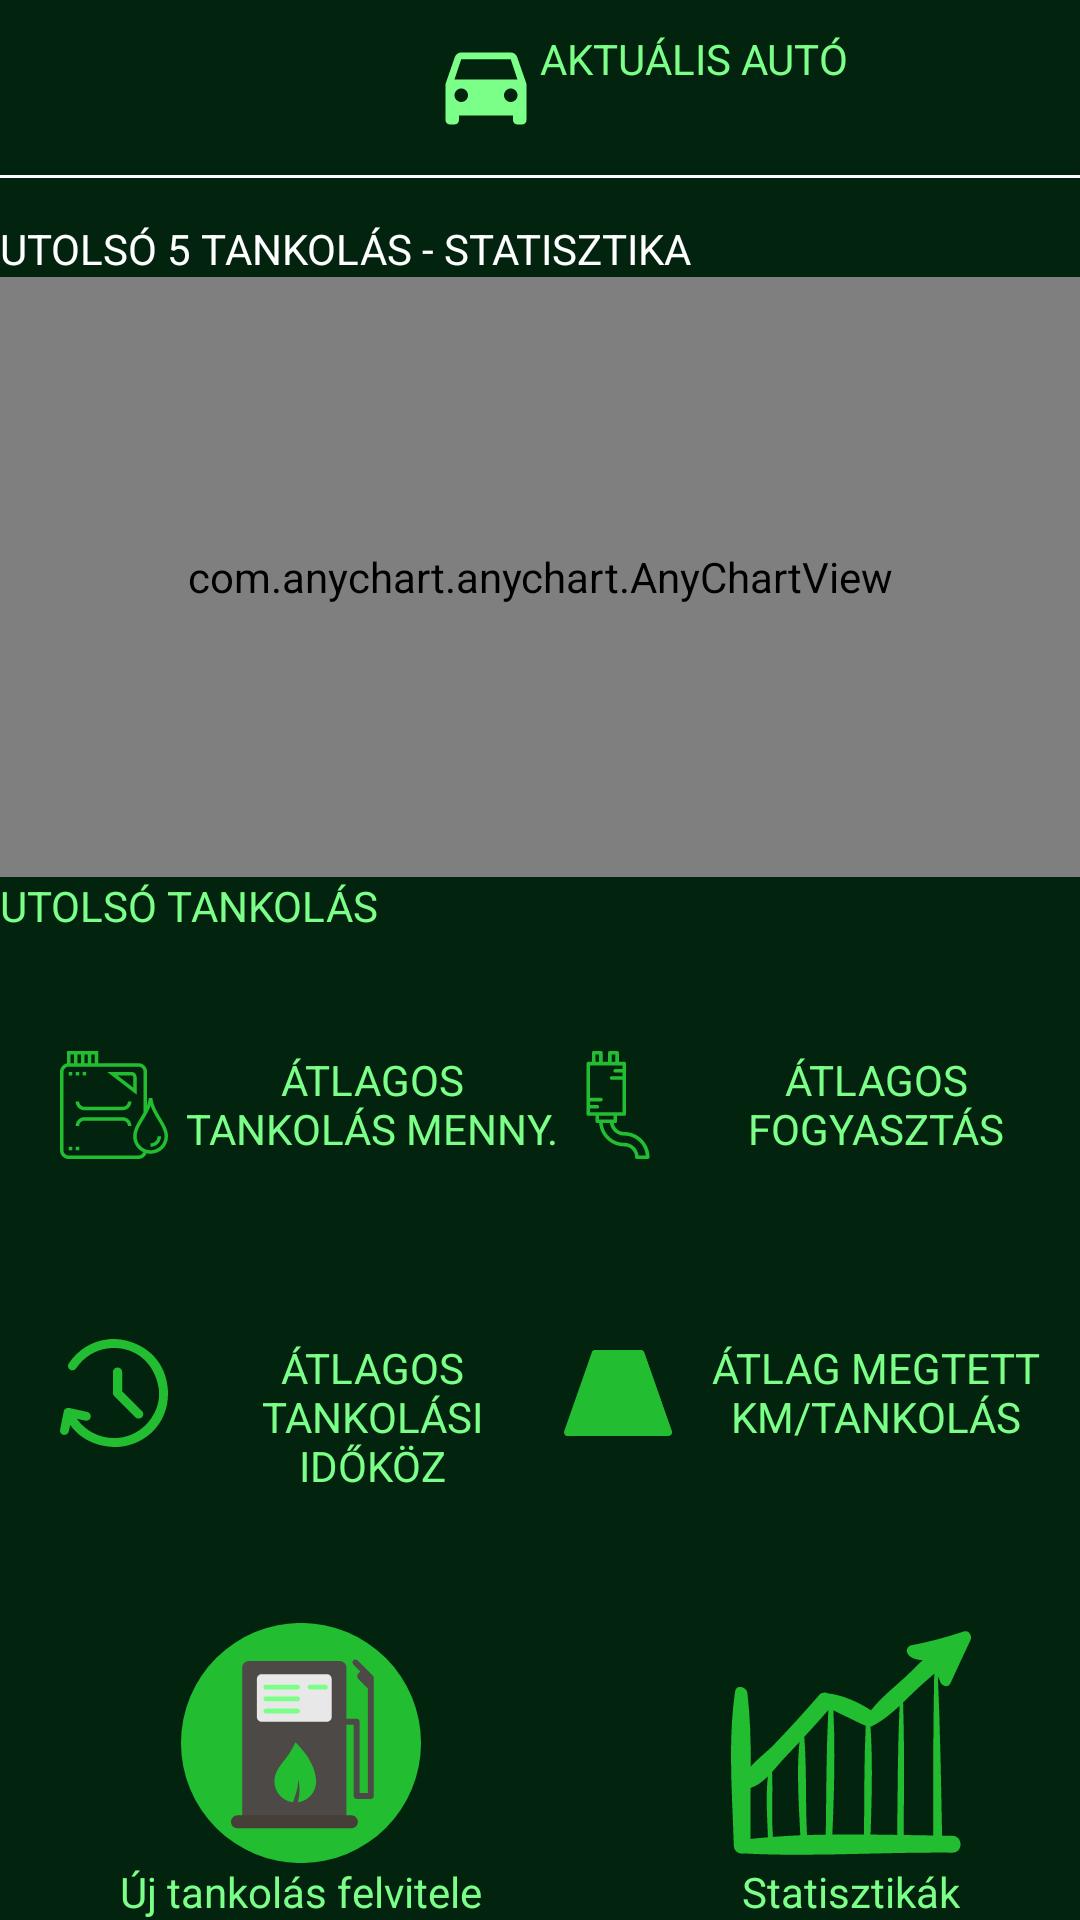

Locate icon controls on the screen. Image size 1080px×1920px, boxes as (x1, y1, x2, y2).
directions car: (445, 52, 527, 125)
gas station lightgreen: (181, 1623, 421, 1863)
oil: (60, 1051, 168, 1159)
road: (564, 1350, 672, 1436)
time: (60, 1339, 168, 1447)
